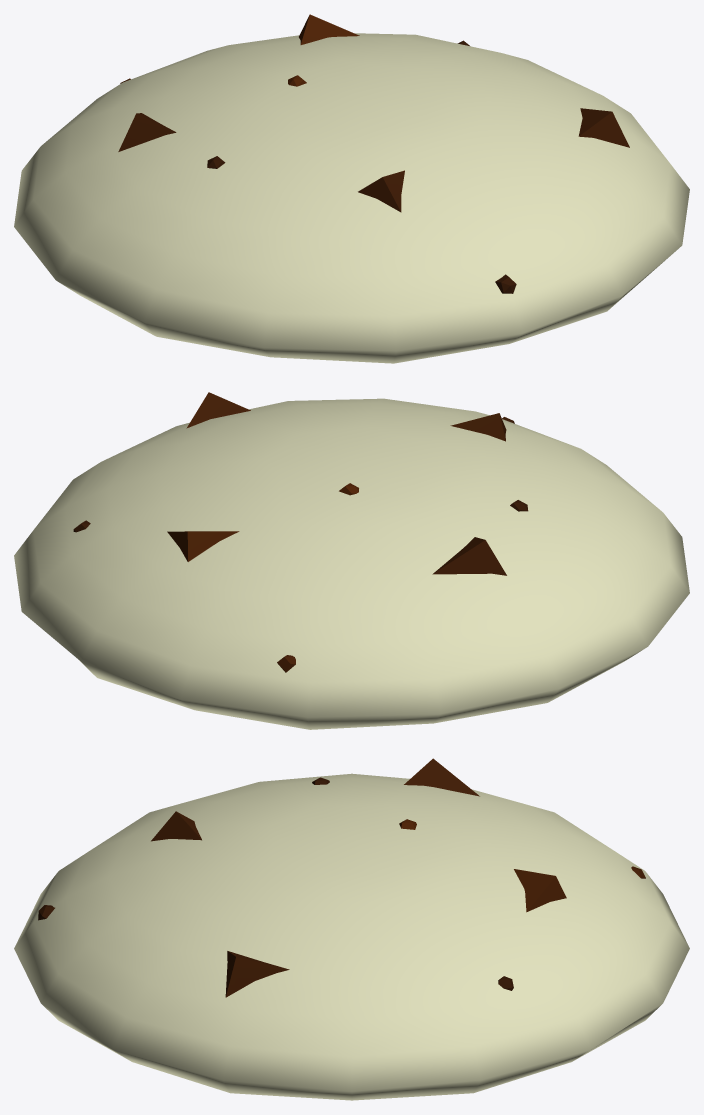
The model's file is bisquit white.fbx.
3 renders of one model, top to bottom at view 1: azimuth 30°, elevation 25°; view 2: azimuth 150°, elevation 25°; view 3: azimuth 270°, elevation 25°, orthographic.
Parts seen in each view (by area): view 1: biscotto1; view 2: biscotto1; view 3: biscotto1.
Boxes of the visible parts, left/top/right/bottom form: biscotto1: left=14, top=14, right=689, bottom=363; biscotto1: left=14, top=392, right=689, bottom=729; biscotto1: left=14, top=758, right=689, bottom=1100.
Bounding box in the file's own units: 1.77 × 0.4113 × 1.77.
